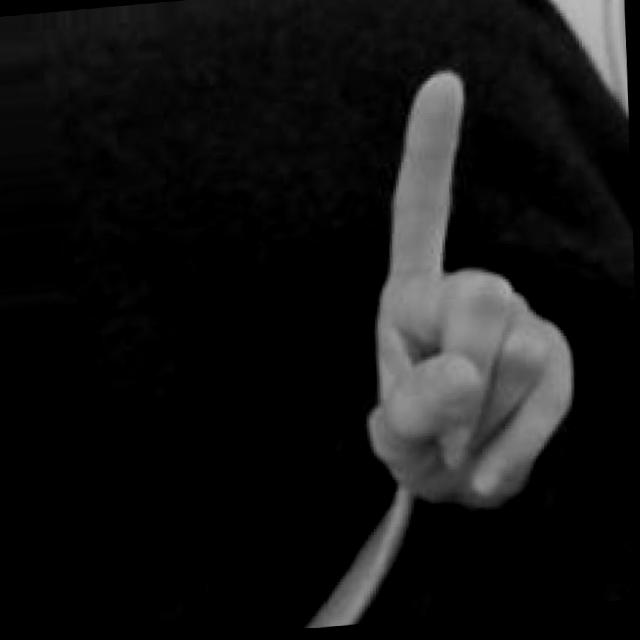I: (341, 57, 592, 529)
